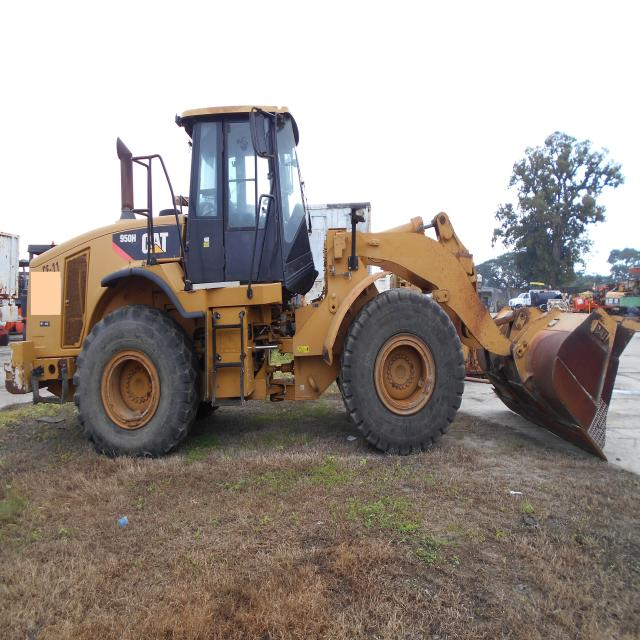buldozerpayloadergrader: (9, 96, 640, 468)
